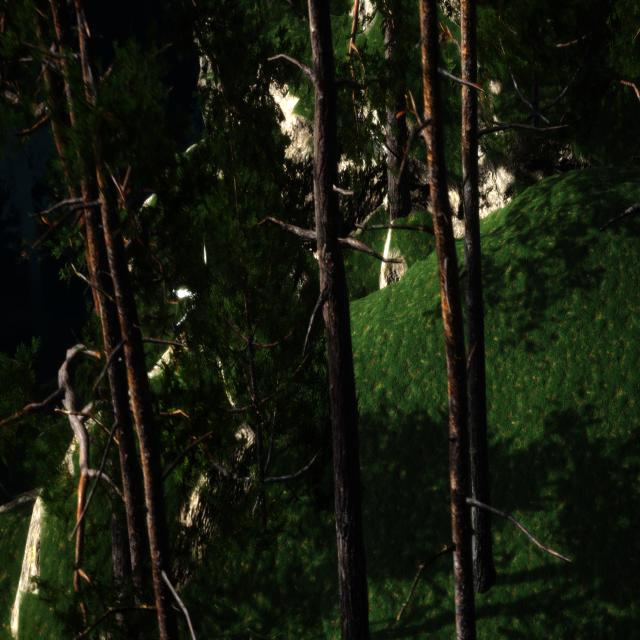Human: (166, 255, 210, 332)
